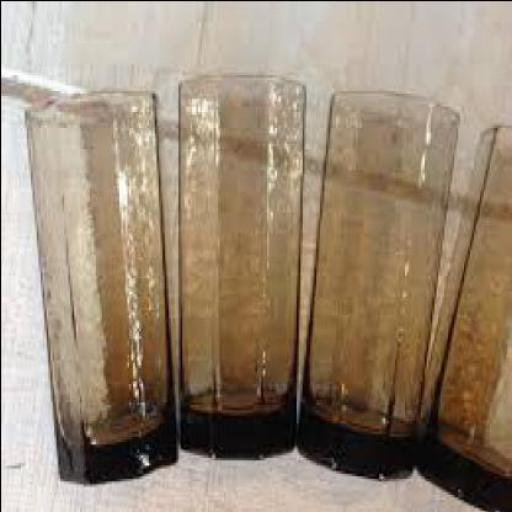glass: (296, 87, 456, 478), (22, 82, 176, 480), (174, 72, 302, 456), (412, 118, 510, 510)
